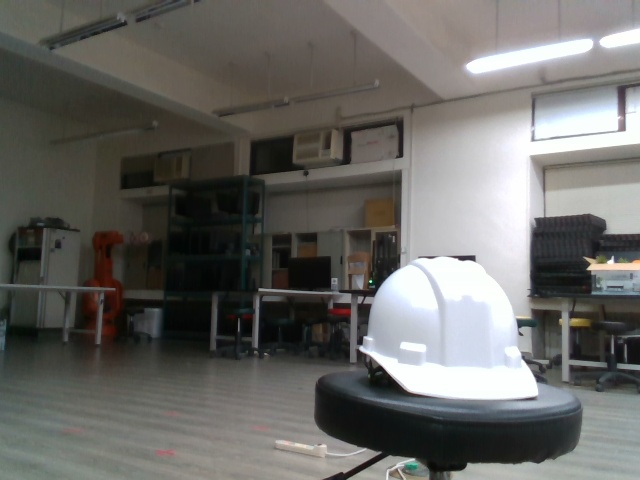helmet: (355, 253, 541, 404)
